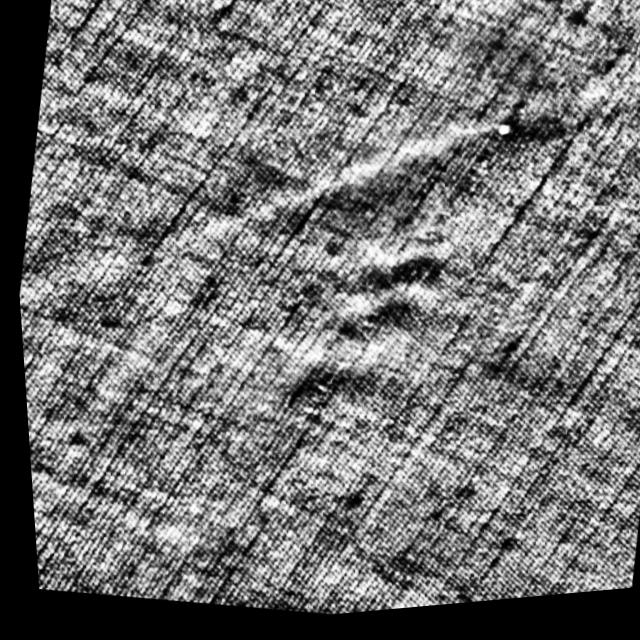Hole: (480, 120, 540, 161)
